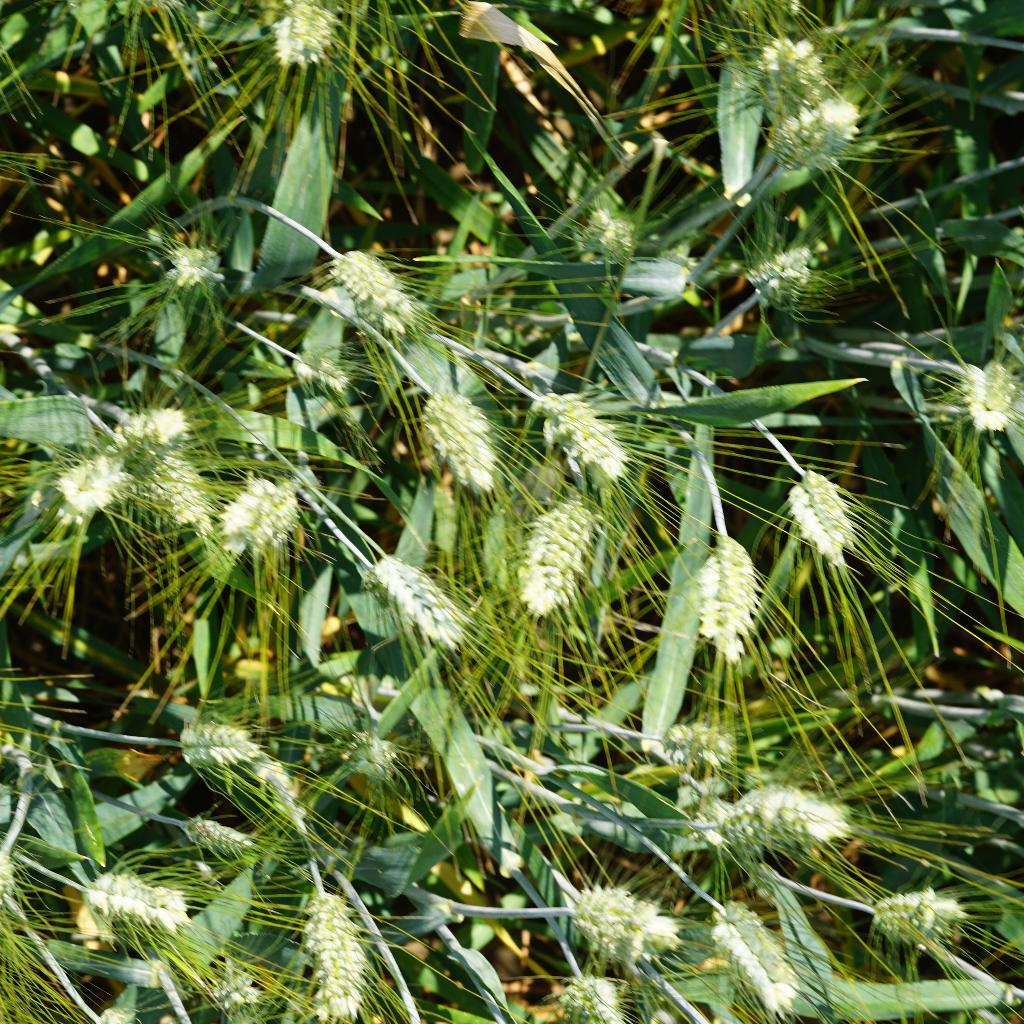0-0: (357, 530, 479, 656), (523, 378, 638, 501), (295, 874, 388, 1024), (701, 890, 811, 1015), (512, 492, 612, 627), (311, 239, 436, 340), (686, 522, 773, 665), (411, 381, 515, 499), (709, 787, 862, 856), (78, 854, 190, 937), (761, 93, 874, 175), (553, 881, 647, 972), (205, 460, 295, 555), (167, 701, 271, 780), (781, 462, 858, 567), (863, 878, 972, 952), (590, 871, 686, 955), (43, 440, 137, 522), (747, 245, 844, 324), (135, 449, 221, 531), (101, 392, 201, 462), (654, 712, 750, 777), (747, 19, 826, 97), (175, 800, 261, 867), (260, 0, 346, 63), (959, 362, 1024, 444), (546, 964, 634, 1024), (148, 232, 235, 292), (333, 716, 407, 785), (571, 208, 651, 271), (278, 343, 357, 399), (675, 792, 750, 847), (208, 964, 264, 1016)
